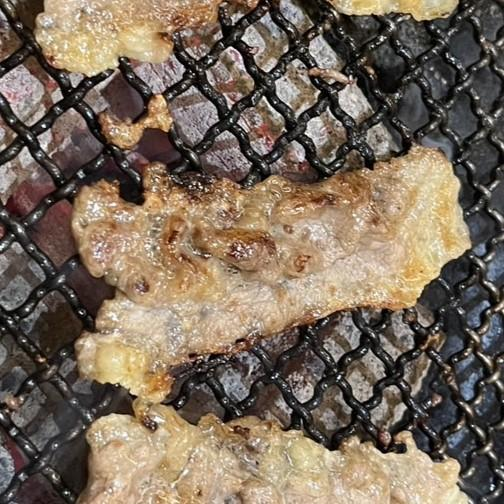Overcooked: (72, 146, 470, 401), (78, 408, 469, 503), (37, 0, 228, 76)
